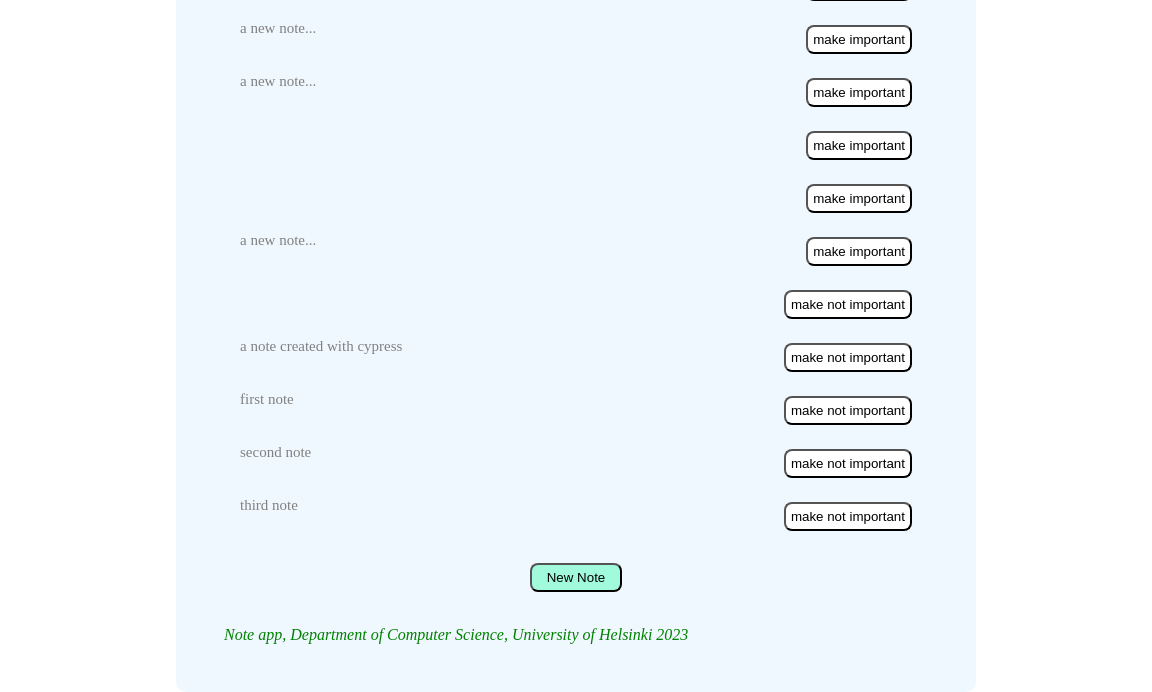
Scenario: Note app › when logged in › and several notes exist › one of those can be made not important
The width and height of the screenshot is (1152, 692).
(page scrolled)
Click the button "make not important" in the row of "first note".
click(848, 411)  # box x1=784 y1=396 x2=912 y2=425
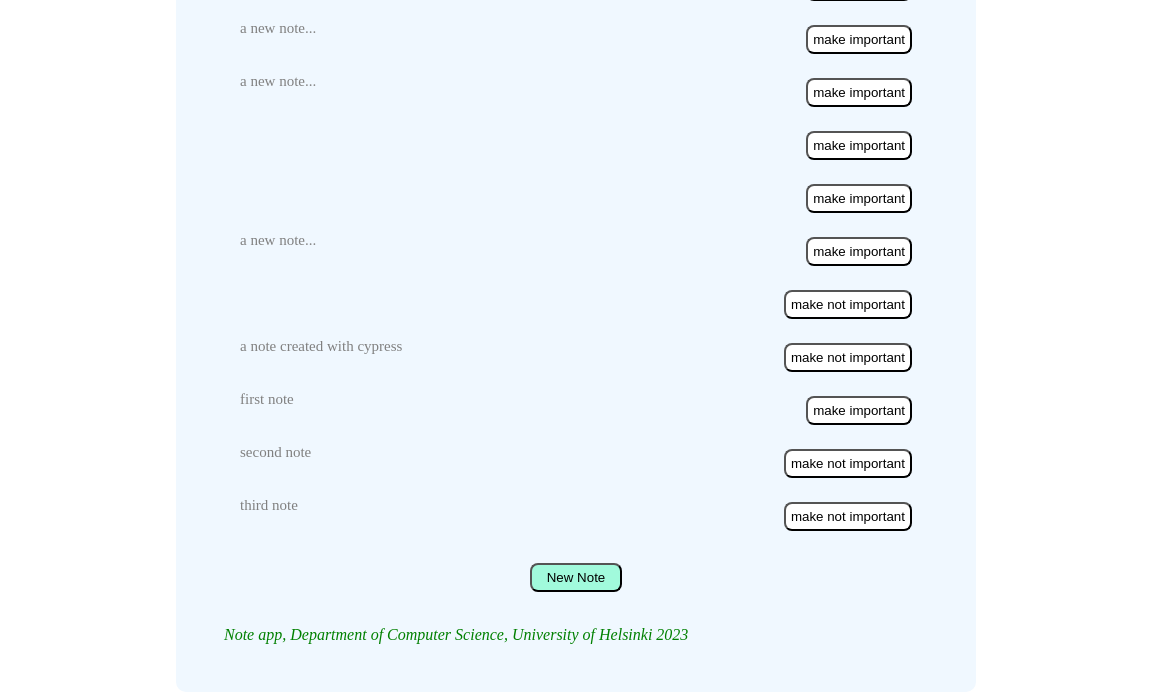
Now the button "make important" in the row of "first note" is shown, box x1=806 y1=396 x2=912 y2=425
